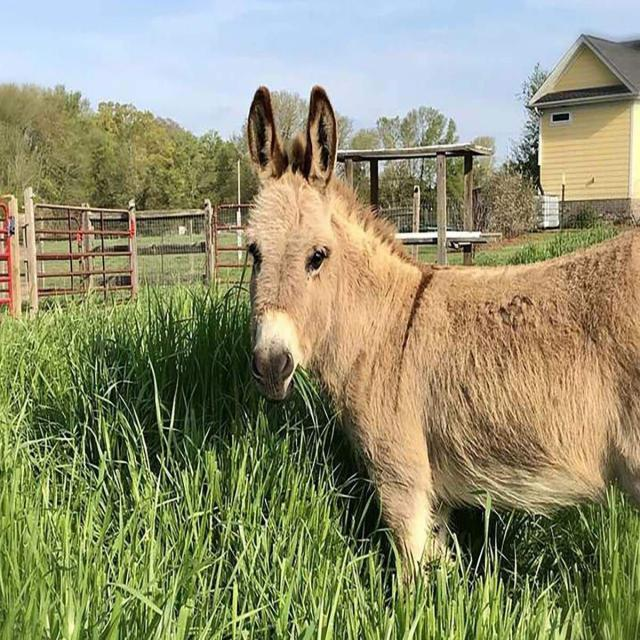Donkey: (242, 83, 639, 598)
